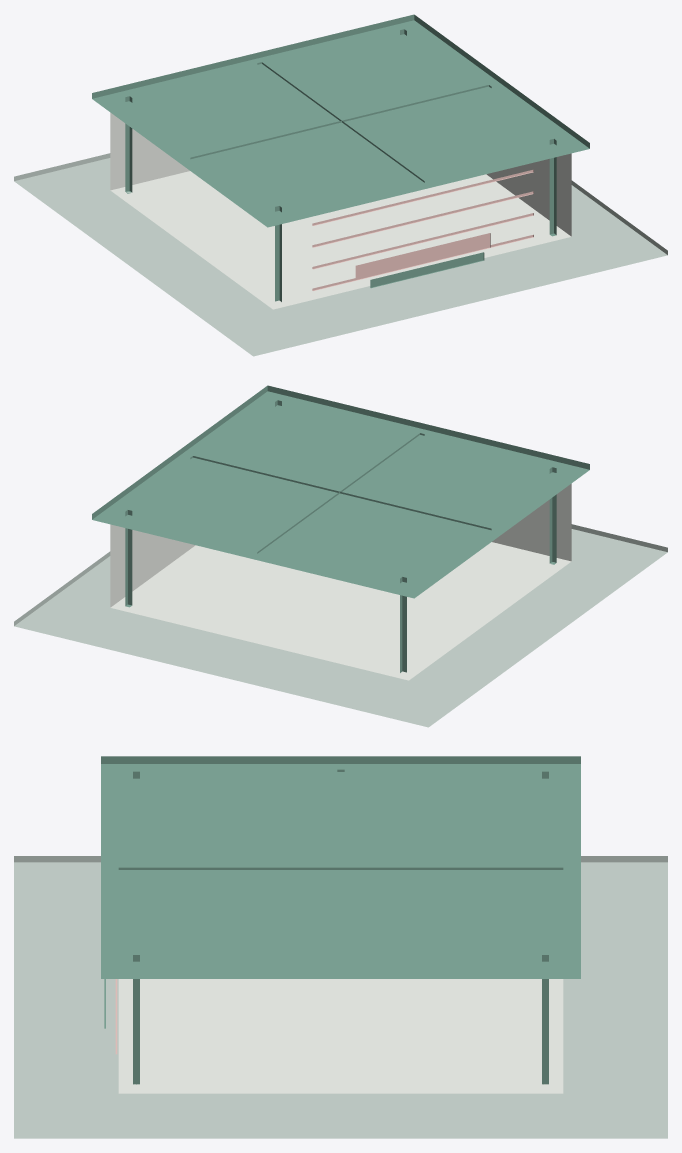
The model's file is housing.glb.
The picture shows the model from 3 angles, top to bottom: view 1: azimuth 30°, elevation 25°; view 2: azimuth 150°, elevation 25°; view 3: azimuth 270°, elevation 25°; orthographic projection. The views are drawn at different scales.
Parts seen in each view (by area): view 1: Roof, Foundation, Walls, Details, Frame; view 2: Roof, Walls, Foundation, Frame; view 3: Roof, Foundation, Walls, Frame.
Part boxes in pixels (box(x1,y1,x2,y2)): Roof: box(92, 14, 589, 227); Foundation: box(14, 153, 667, 356); Walls: box(110, 112, 571, 309); Details: box(312, 169, 533, 290); Frame: box(125, 29, 556, 301); Roof: box(92, 385, 589, 598); Walls: box(110, 483, 571, 680); Foundation: box(14, 524, 667, 727); Frame: box(125, 400, 556, 672); Roof: box(101, 756, 580, 978); Foundation: box(14, 856, 667, 1138); Walls: box(118, 979, 563, 1093); Frame: box(118, 769, 563, 1084).
Bounding box in the file's own units: 60 × 13.86 × 60.
